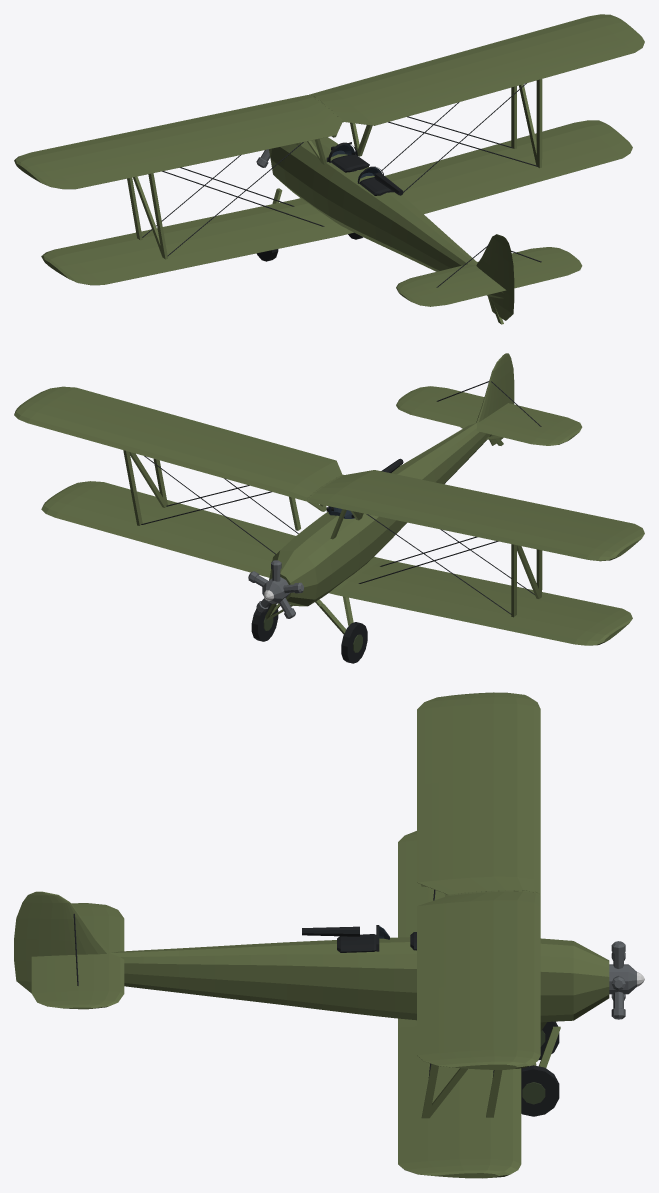
The picture shows the model from 3 angles, top to bottom: view 1: azimuth 30°, elevation 25°; view 2: azimuth 150°, elevation 25°; view 3: azimuth 270°, elevation 25°; orthographic projection. The views are drawn at different scales.
Visible parts, largest first — view 1: Wing L, Wing R, Fuselage, Struts, Bracing Wires, Stabilizer L, Aileron R, Aileron L, Rudder, Elevator L, Stabilizer R, Elevator R (+2 smaller); view 2: Wing L, Wing R, Fuselage, Struts, Stabilizer L, Stabilizer R, Bracing Wires, Main Wheels, Engine, Aileron R, Aileron L, Elevator L (+3 smaller); view 3: Wing R, Wing L, Fuselage, Rudder, Stabilizer R, Aileron L, Main Wheels, Aileron R, Struts, Elevator R, Stabilizer L, Vertical Fin (+2 smaller).
Boxes of the visible parts, x1,y1,x2,y2 form: Wing L: [14, 95, 353, 285]; Wing R: [309, 14, 644, 213]; Fuselage: [269, 137, 504, 298]; Struts: [127, 79, 542, 324]; Bracing Wires: [142, 83, 541, 287]; Stabilizer L: [396, 264, 492, 298]; Aileron R: [510, 42, 634, 84]; Aileron L: [65, 154, 189, 188]; Rudder: [493, 235, 514, 320]; Elevator L: [406, 280, 506, 306]; Stabilizer R: [477, 247, 574, 274]; Elevator R: [514, 257, 582, 288]; Wing L: [307, 470, 644, 645]; Wing R: [14, 386, 342, 577]; Fuselage: [269, 423, 491, 606]; Struts: [123, 427, 542, 634]; Stabilizer L: [476, 410, 575, 445]; Stabilizer R: [396, 392, 481, 427]; Bracing Wires: [141, 381, 541, 614]; Main Wheels: [251, 603, 367, 663]; Engine: [248, 560, 303, 618]; Aileron R: [65, 387, 189, 425]; Aileron L: [510, 500, 634, 529]; Elevator L: [497, 403, 582, 435]; Wing R: [398, 890, 540, 1178]; Wing L: [398, 692, 540, 937]; Fuselage: [110, 937, 609, 1022]; Rudder: [14, 891, 62, 993]; Stabilizer R: [63, 953, 124, 1009]; Aileron L: [417, 706, 446, 784]; Main Wheels: [521, 1021, 559, 1116]; Aileron R: [417, 987, 446, 1055]; Struts: [421, 885, 560, 1118]; Elevator R: [31, 955, 72, 1008]; Stabilizer L: [71, 903, 124, 952]; Vertical Fin: [44, 892, 109, 955].
Size of the model in its own units: 11.4 by 3 by 8.17.
